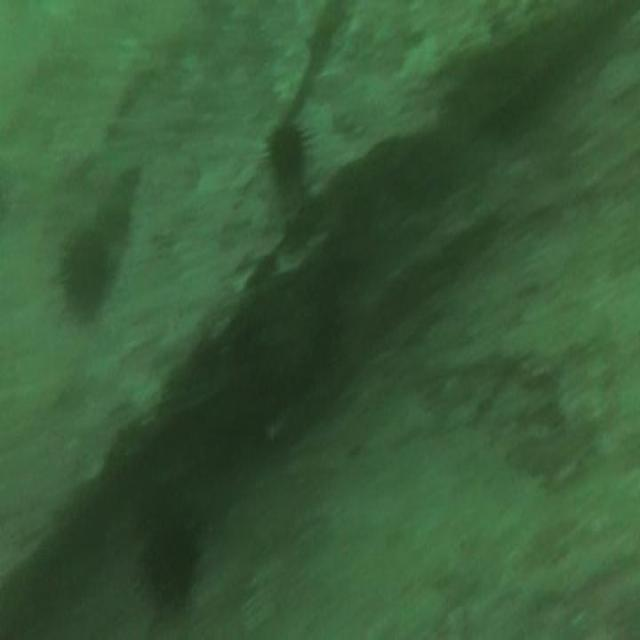echinus: (143, 525, 192, 605), (60, 232, 106, 314), (267, 122, 304, 180)
